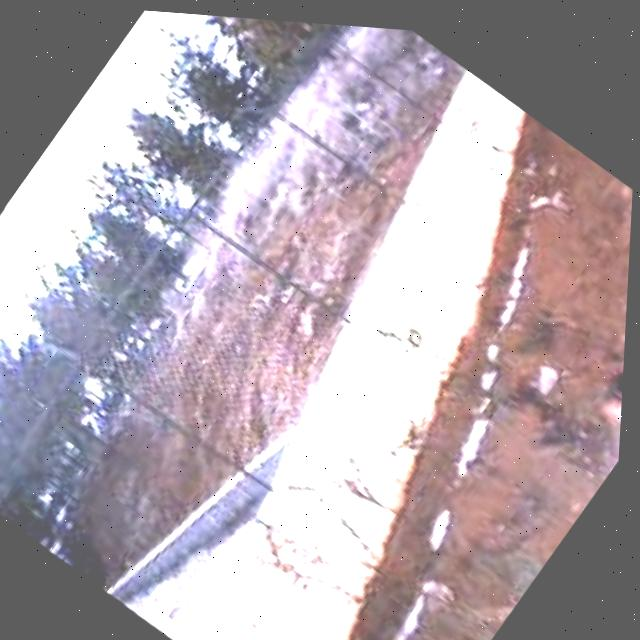Fire: (596, 322, 628, 425)
